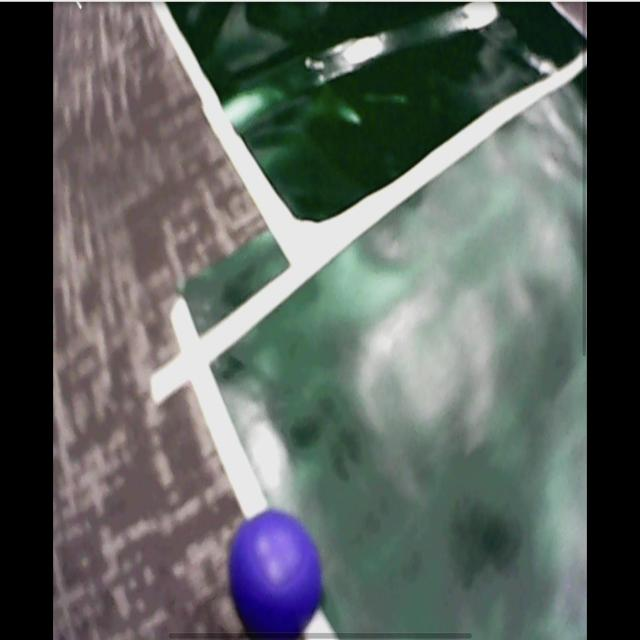ball: (231, 512, 322, 636)
